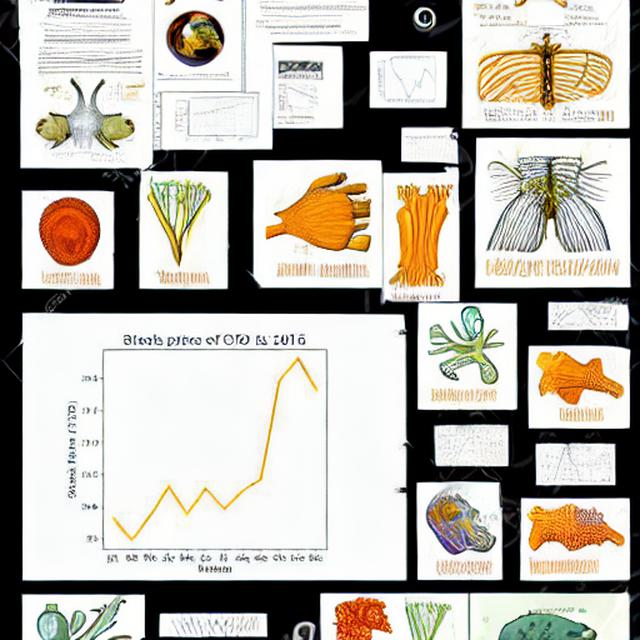Graph: (37, 318, 384, 578), (172, 95, 255, 145), (374, 52, 444, 105), (314, 257, 364, 282)
